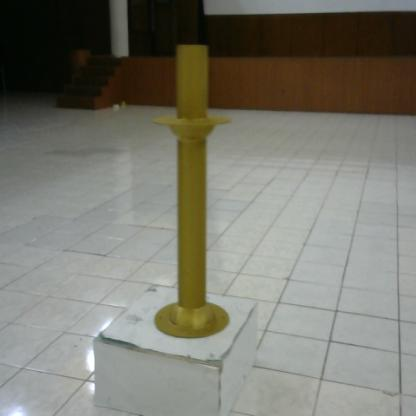pole: (148, 36, 241, 349)
